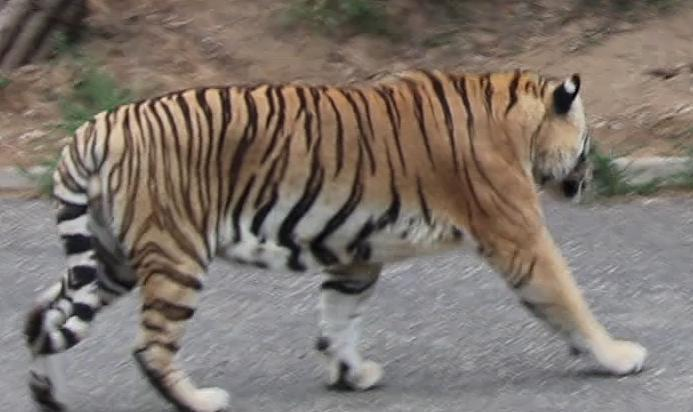tiger: (25, 69, 646, 411)
